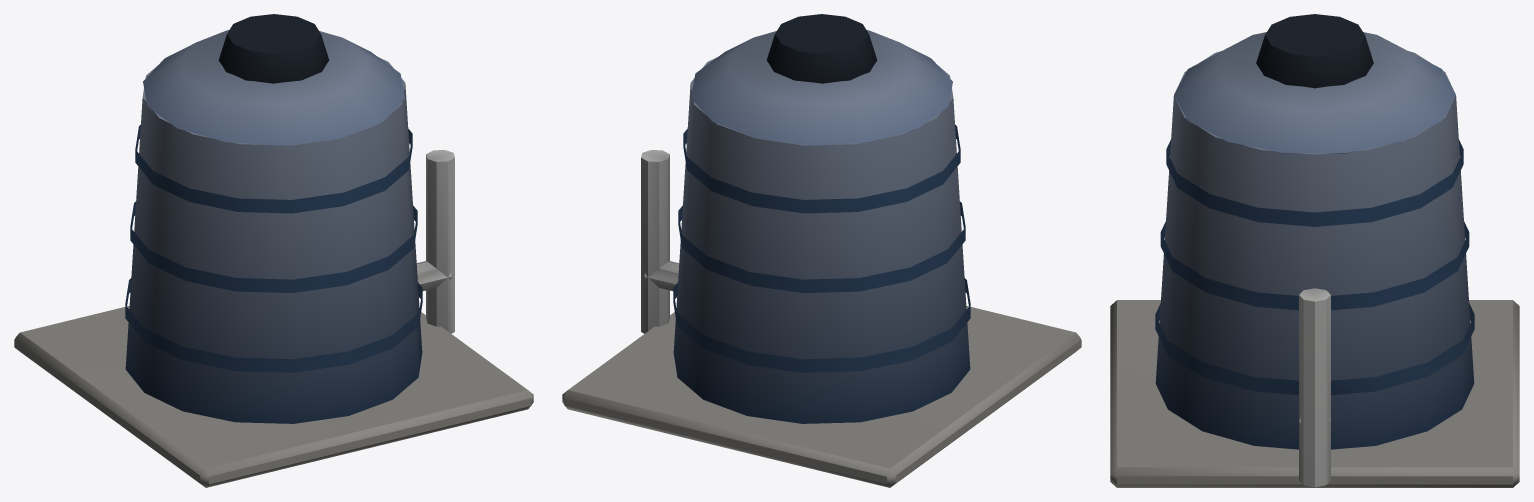
The model's file is tanque_agua.glb.
The picture shows the model from 3 angles, left to right: view 1: azimuth 30°, elevation 25°; view 2: azimuth 150°, elevation 25°; view 3: azimuth 270°, elevation 25°; orthographic projection. The views are drawn at different scales.
Visible parts, largest first — view 1: tanque_agua; view 2: tanque_agua; view 3: tanque_agua.
Boxes of the visible parts, box(x1,y1,x2,y2) form: tanque_agua: box(14, 14, 533, 487); tanque_agua: box(562, 14, 1081, 487); tanque_agua: box(1110, 14, 1519, 487).
Size of the model in its own units: 1.87 by 1.79 by 1.8.
